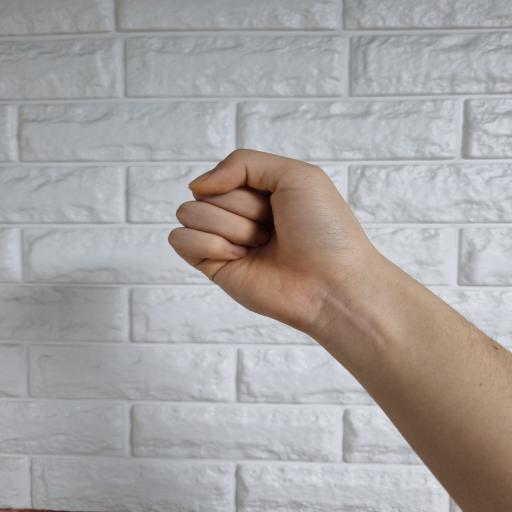Rock: (169, 149, 387, 331)
